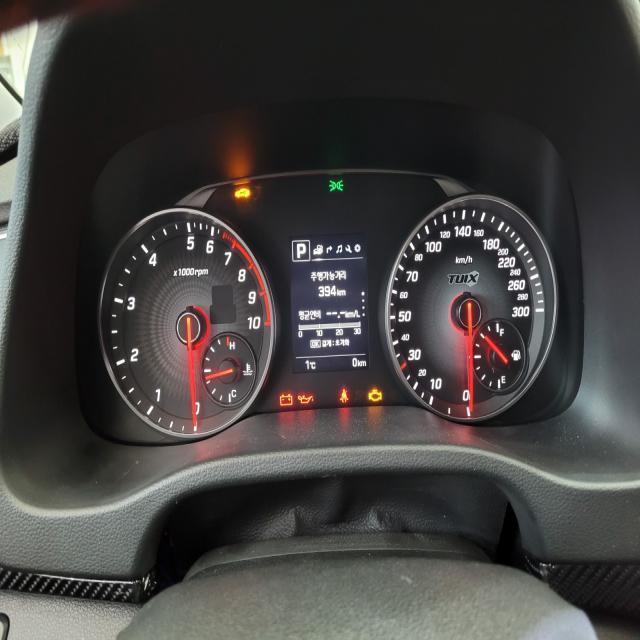SideLamp: (328, 178, 344, 192)
